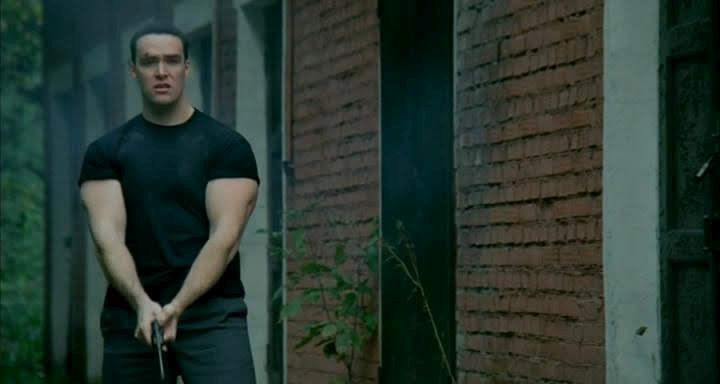gun: (116, 295, 198, 380)
